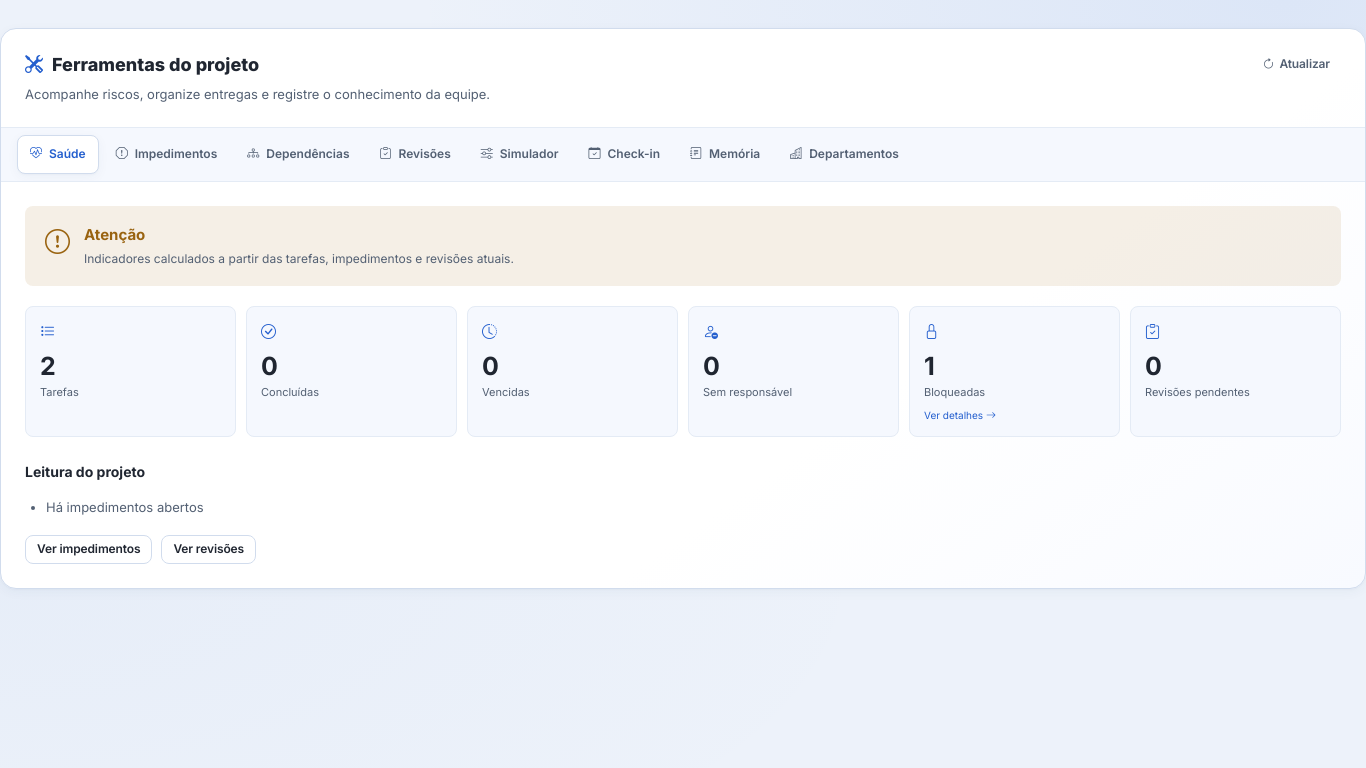
Test: check-in recupera os campos do dia para o autor e salva sem escolher outro autor
Later steps or results of the test are not shown.
Click the tab "Check-in" at (624, 154), box 576,135 -> 673,174
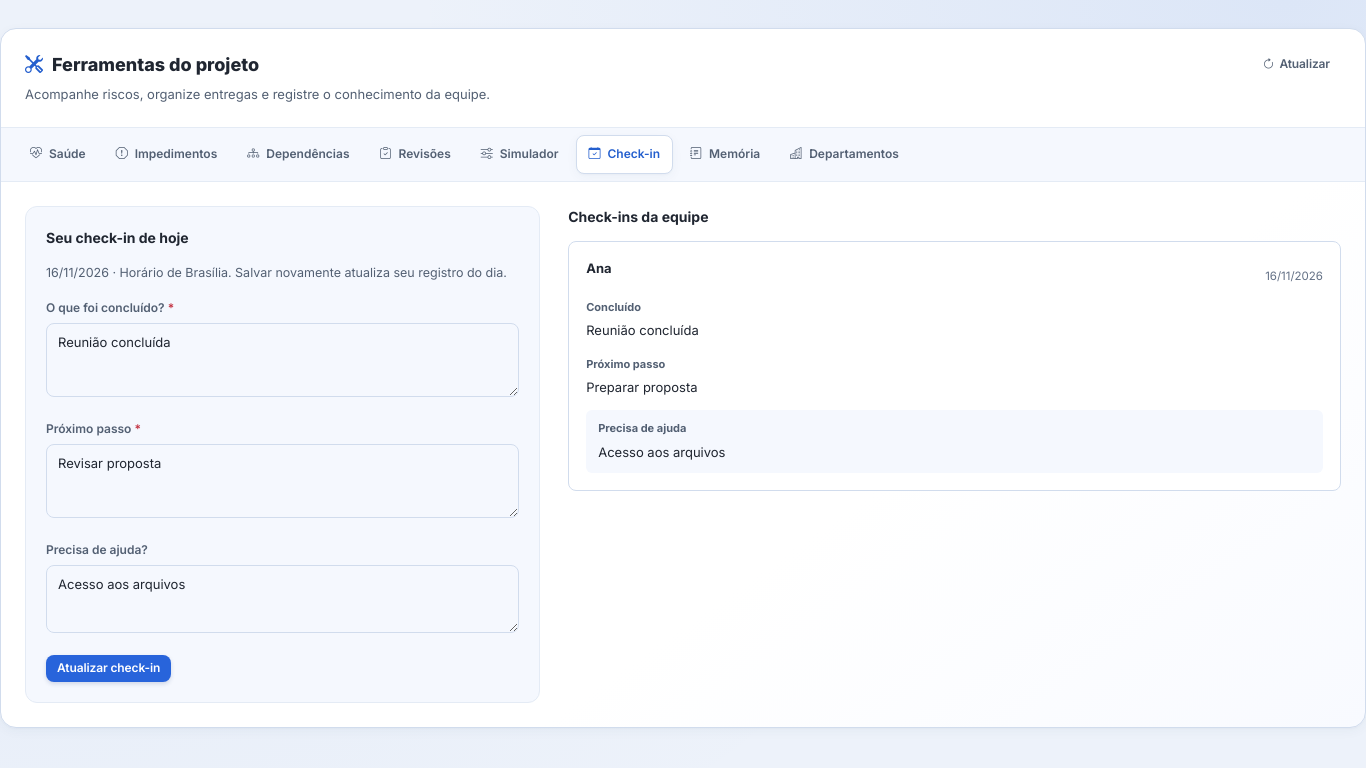
Result: the label "O que foi concluído? *" is shown at 46,300 -> 174,315
Result: the label "Próximo passo *" is shown at 46,421 -> 141,436
